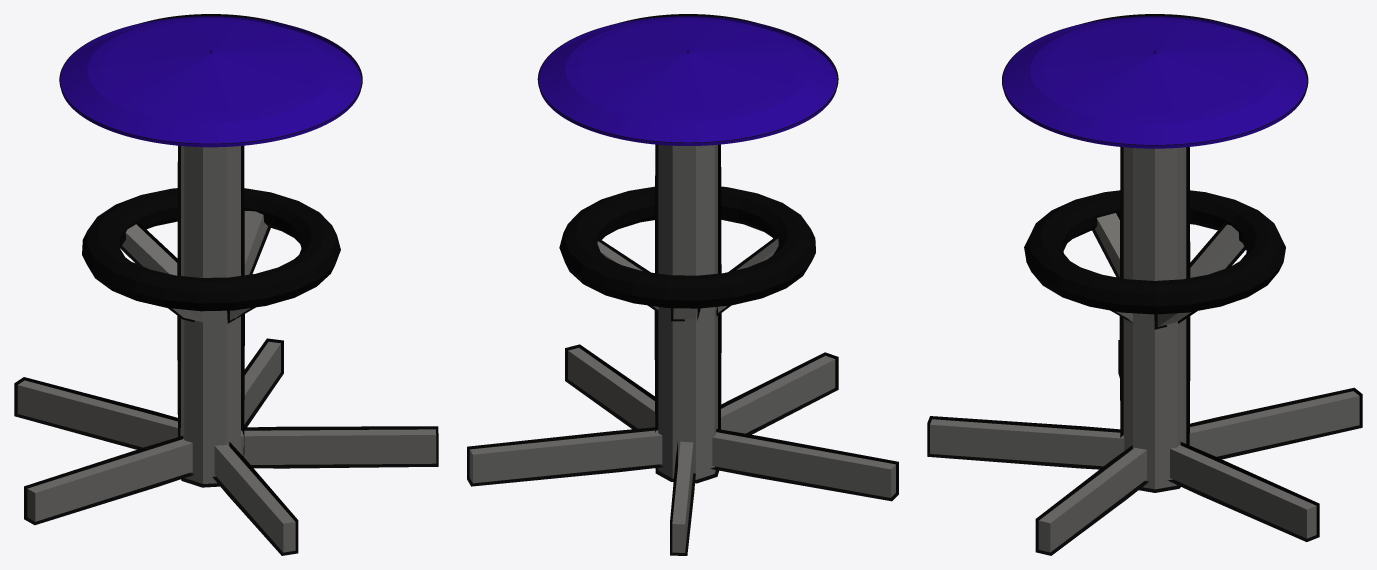
Rendered from sandalyee.fbx.
3 renders of one model, left to right at view 1: azimuth 30°, elevation 25°; view 2: azimuth 150°, elevation 25°; view 3: azimuth 270°, elevation 25°, orthographic.
Visible parts, largest first — view 1: Circle; view 2: Circle; view 3: Circle.
Part boxes in pixels (x1=…): Circle: x1=14, y1=14, x2=438, y2=555; Circle: x1=467, y1=14, x2=898, y2=555; Circle: x1=927, y1=14, x2=1362, y2=555.
Bounding box in the file's own units: 378 × 411 × 379.
